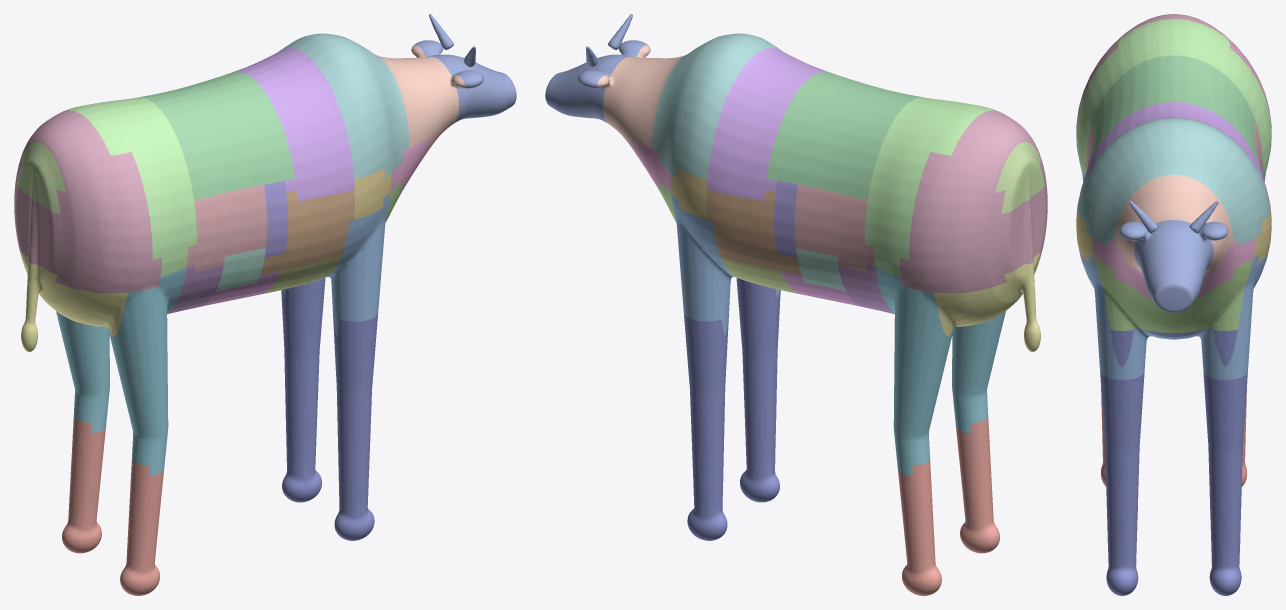
The picture shows the model from 3 angles, left to right: view 1: azimuth 30°, elevation 25°; view 2: azimuth 150°, elevation 25°; view 3: azimuth 270°, elevation 25°; orthographic projection.
Visible parts, largest first — view 1: ichibo, kata, uchimomo, sirloin, ranpu, rib-rosu, kata-rosu, sune, hire, katabara, harami, neck (+10 smaller); view 2: ichibo, kata, uchimomo, sirloin, ranpu, rib-rosu, kata-rosu, sune, hire, katabara, harami, neck (+10 smaller); view 3: kata, kata-rosu, ranpu, sirloin, tan, misuji, katabara, neck, rib-rosu, tougarashi, ichibo, zabuton (+2 smaller).
Boxes of the visible parts, bbox=[...] form: ichibo: bbox=[14, 110, 161, 293]; kata: bbox=[281, 278, 378, 540]; uchimomo: bbox=[56, 267, 186, 475]; sirloin: bbox=[139, 71, 295, 200]; ranpu: bbox=[64, 97, 196, 276]; rib-rosu: bbox=[232, 48, 354, 201]; kata-rosu: bbox=[280, 33, 409, 178]; sune: bbox=[62, 416, 163, 595]; hire: bbox=[186, 184, 267, 273]; katabara: bbox=[282, 193, 390, 335]; harami: bbox=[260, 190, 354, 274]; neck: bbox=[377, 45, 464, 147]; ichibo: bbox=[900, 110, 1047, 293]; kata: bbox=[684, 278, 780, 540]; uchimomo: bbox=[875, 267, 1005, 475]; sirloin: bbox=[766, 71, 922, 200]; ranpu: bbox=[865, 97, 997, 276]; rib-rosu: bbox=[707, 48, 829, 201]; kata-rosu: bbox=[652, 33, 781, 178]; sune: bbox=[898, 416, 999, 595]; hire: bbox=[794, 184, 875, 273]; katabara: bbox=[672, 193, 779, 335]; harami: bbox=[707, 190, 801, 274]; neck: bbox=[597, 45, 684, 147]; kata: bbox=[1100, 329, 1247, 595]; kata-rosu: bbox=[1078, 118, 1269, 247]; ranpu: bbox=[1076, 19, 1271, 174]; sirloin: bbox=[1087, 55, 1260, 167]; tan: bbox=[1119, 201, 1228, 312]; misuji: bbox=[1094, 258, 1253, 333]; katabara: bbox=[1079, 250, 1268, 379]; neck: bbox=[1114, 174, 1233, 272]; rib-rosu: bbox=[1076, 102, 1271, 216]; tougarashi: bbox=[1092, 237, 1255, 297]; ichibo: bbox=[1076, 14, 1271, 161]; zabuton: bbox=[1076, 207, 1271, 263].
Bounding box in the file's own units: 0.9842 × 0.9293 × 0.3484.
